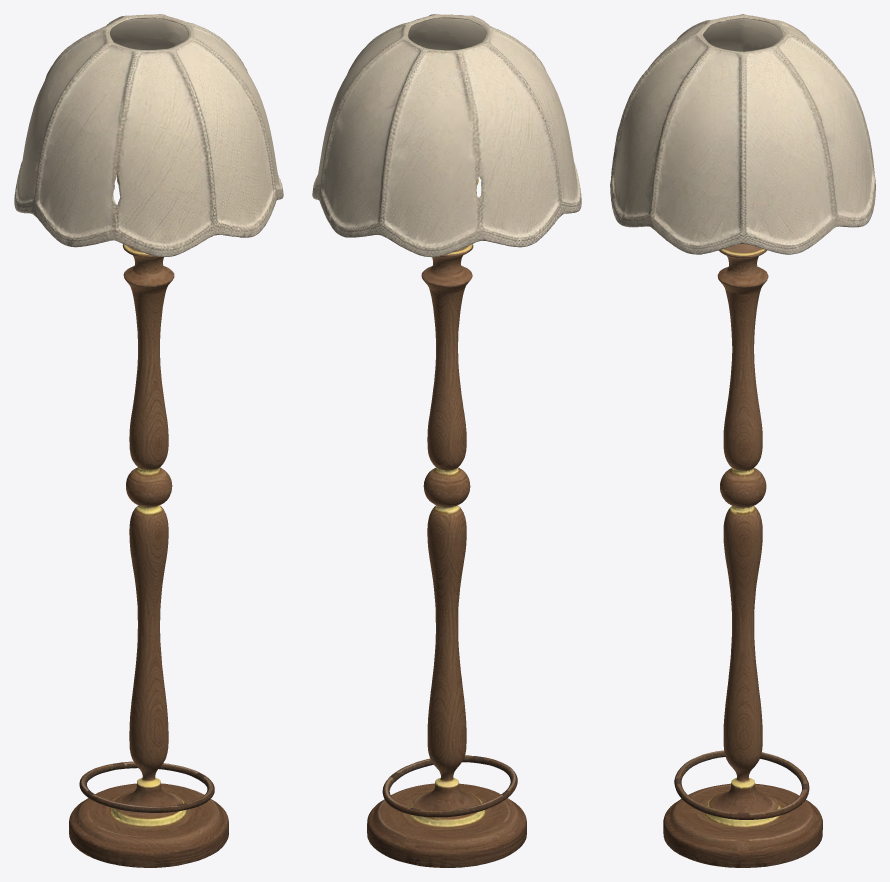
Rendered from floor-lamp.glb.
3 views of the same model, side by side, from view 1: azimuth 30°, elevation 25°; view 2: azimuth 150°, elevation 25°; view 3: azimuth 270°, elevation 25° (orthographic).
Parts seen in each view (by area): view 1: mesh_node; view 2: mesh_node; view 3: mesh_node.
Part boxes in pixels (bbox=[...]): mesh_node: bbox=[14, 14, 283, 867]; mesh_node: bbox=[312, 14, 581, 867]; mesh_node: bbox=[610, 14, 875, 867].
Bounding box in the file's own units: 0.5713 × 1.9 × 0.5715.
1 material, 1 textured.
